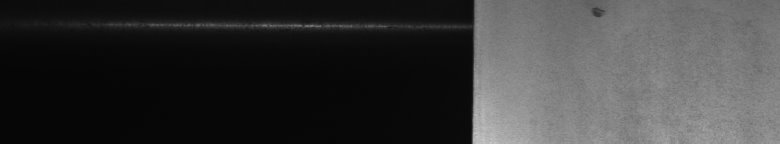fi: (588, 4, 608, 24)
